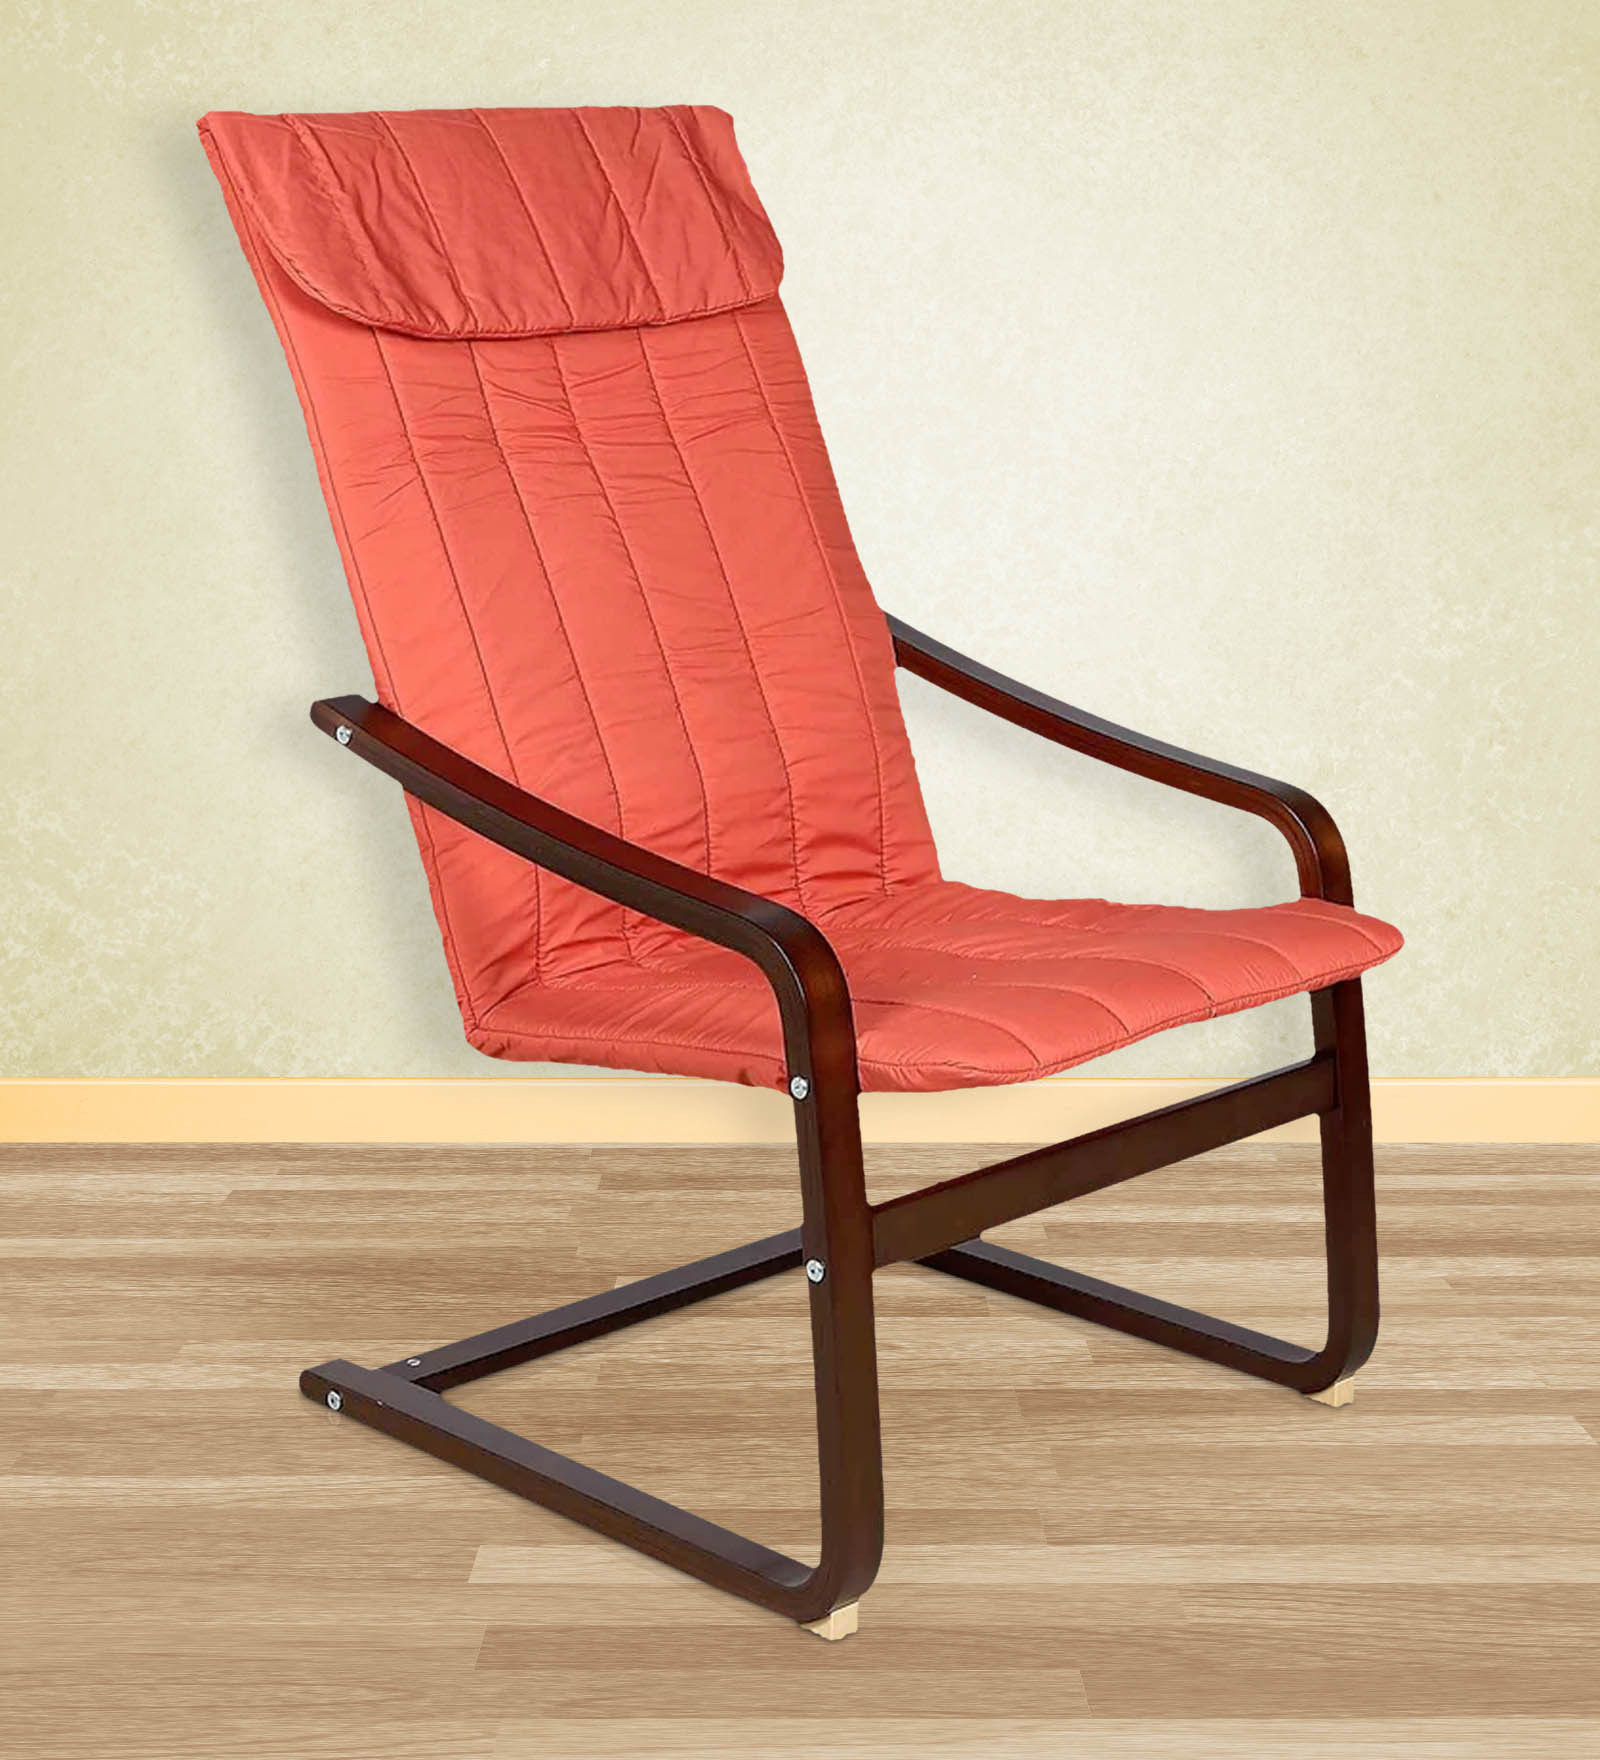Relaxing Chair in orange Colour by @Home: (159, 54, 1494, 1666)
